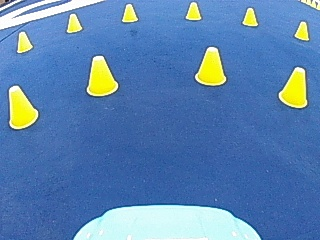cone: (6, 84, 38, 128), (85, 54, 118, 96), (194, 45, 227, 85), (278, 65, 308, 107), (16, 30, 33, 52), (65, 13, 82, 33), (241, 6, 258, 26), (121, 3, 138, 23), (184, 1, 201, 20), (293, 20, 309, 40)
